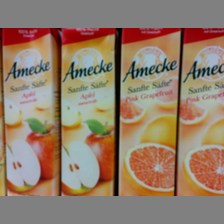juice: (118, 29, 179, 196), (59, 29, 119, 195), (1, 28, 58, 195), (177, 28, 224, 197)
